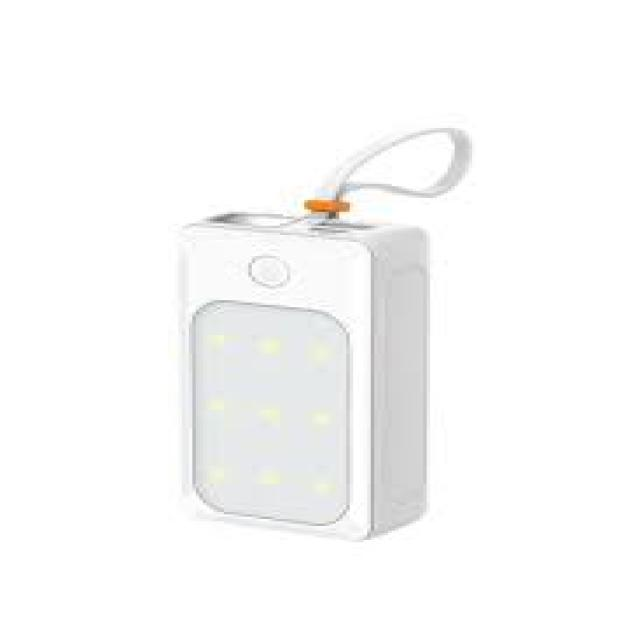portable-charger: (176, 210, 435, 540)
